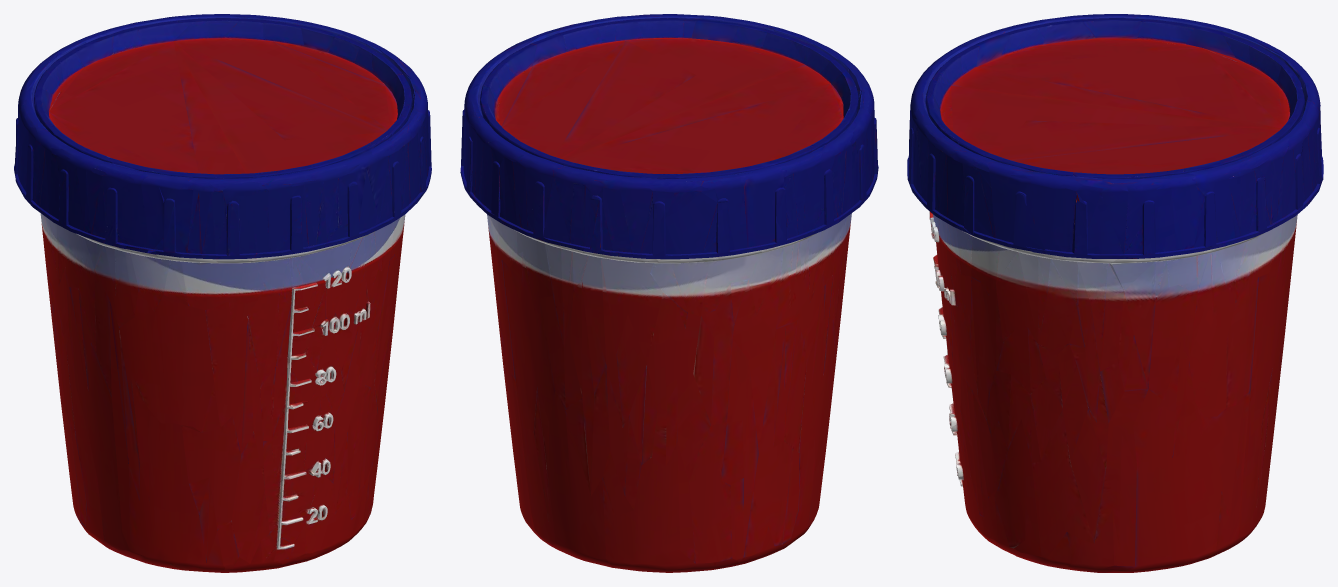
The model's file is drain_cup.glb.
The picture shows the model from 3 angles, left to right: view 1: azimuth 30°, elevation 25°; view 2: azimuth 150°, elevation 25°; view 3: azimuth 270°, elevation 25°; orthographic projection.
Parts seen in each view (by area): view 1: output_unwrapped; view 2: output_unwrapped; view 3: output_unwrapped.
Part boxes in pixels (bbox=[...]): output_unwrapped: bbox=[14, 14, 431, 572]; output_unwrapped: bbox=[460, 14, 878, 572]; output_unwrapped: bbox=[907, 14, 1323, 572].
Bounding box in the file's own units: 1.72 × 1.9 × 1.72.
Materials: 1 (1 with a texture image).
